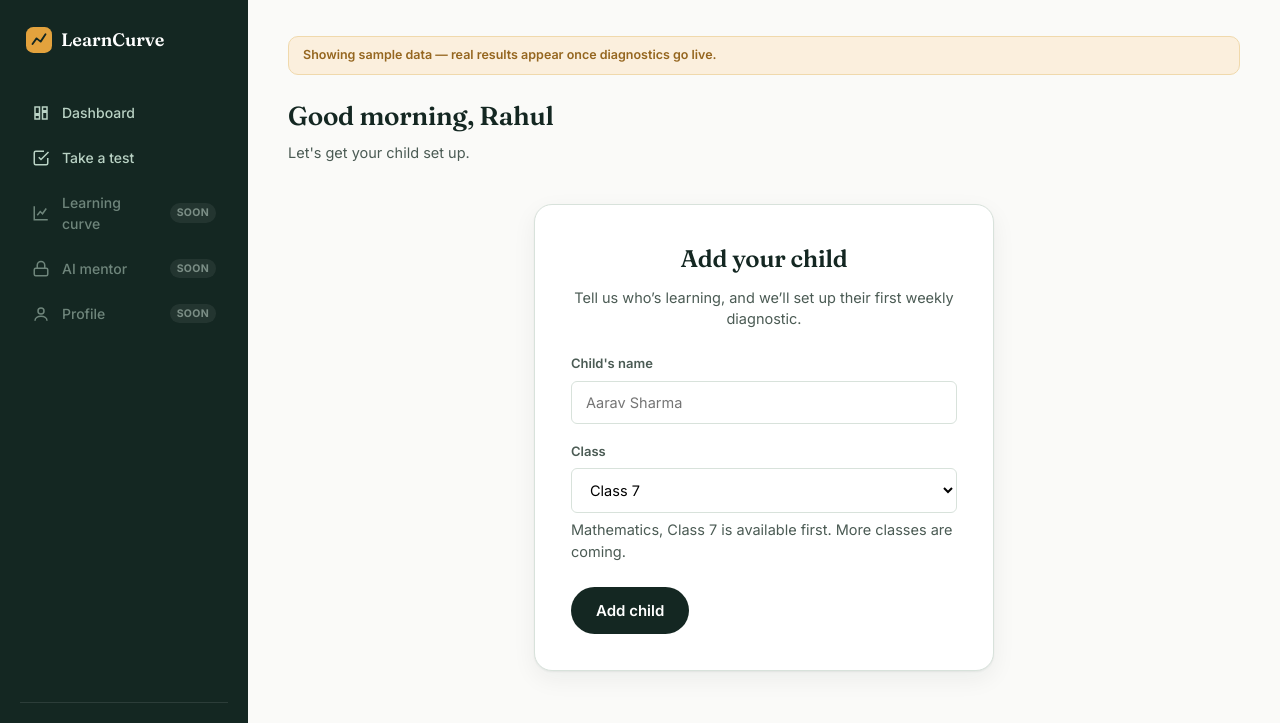
Test: Dashboard › asks a parent with no children to add one, then shows the no-tests state
This screenshot has width=1280, height=723.
Expected: the heading "Add your child" is shown, left=680, top=244, right=848, bottom=272
Click the button "Add child": x=630, y=610 left=571, top=586, right=689, bottom=634
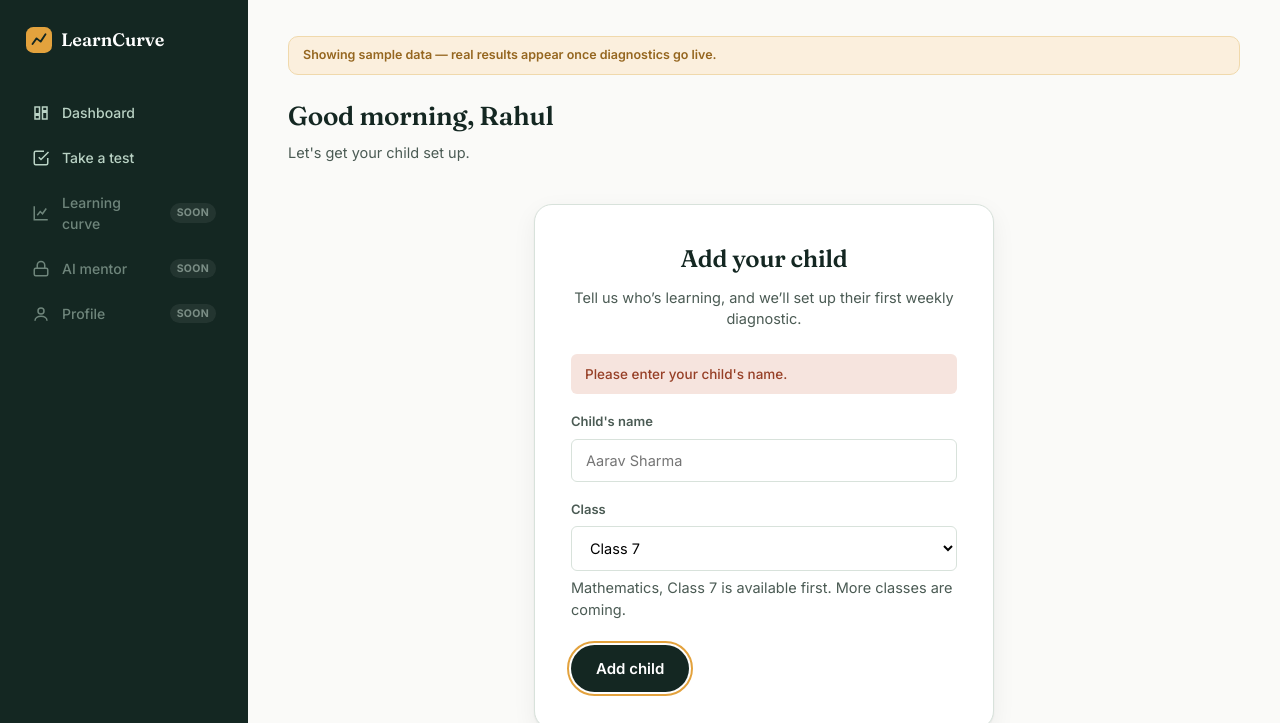
Result: the message shows "enter your child" at left=585, top=366, right=787, bottom=382
In the field labelled "Child's name": x=764, y=460 left=571, top=439, right=957, bottom=482, type "Kabir Verma"
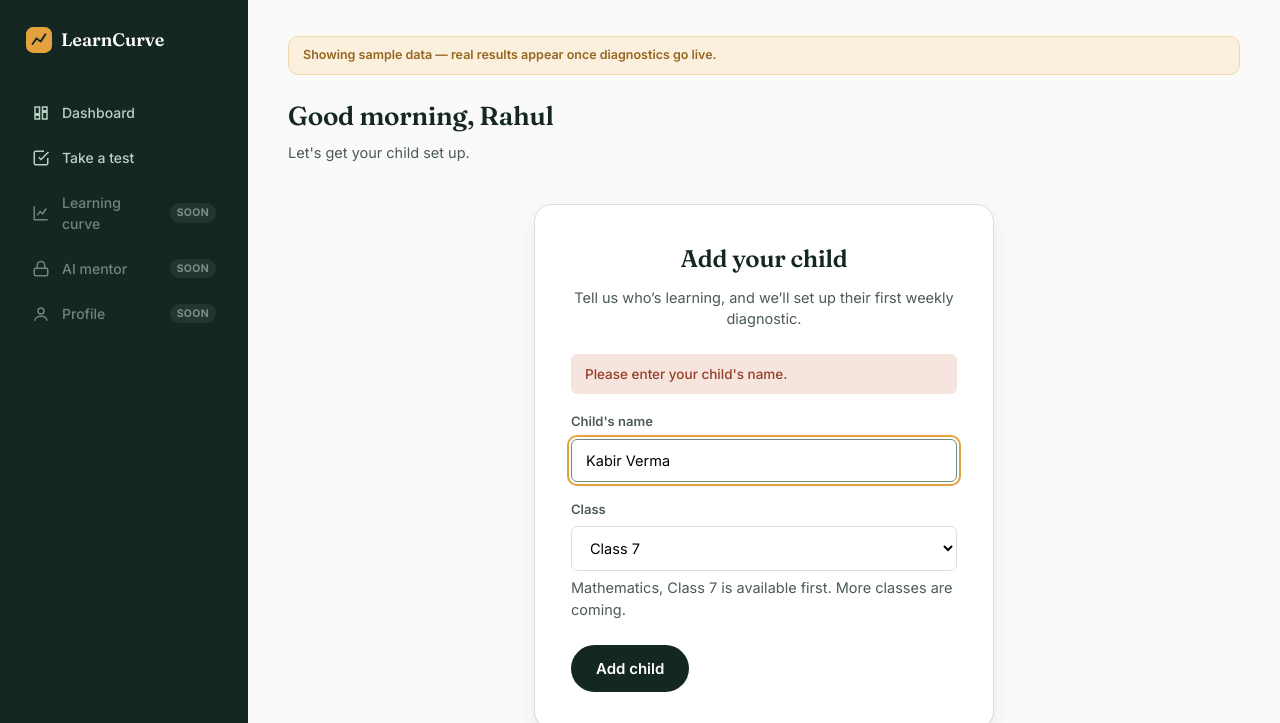
Click the button "Add child": x=630, y=668 left=571, top=645, right=689, bottom=692
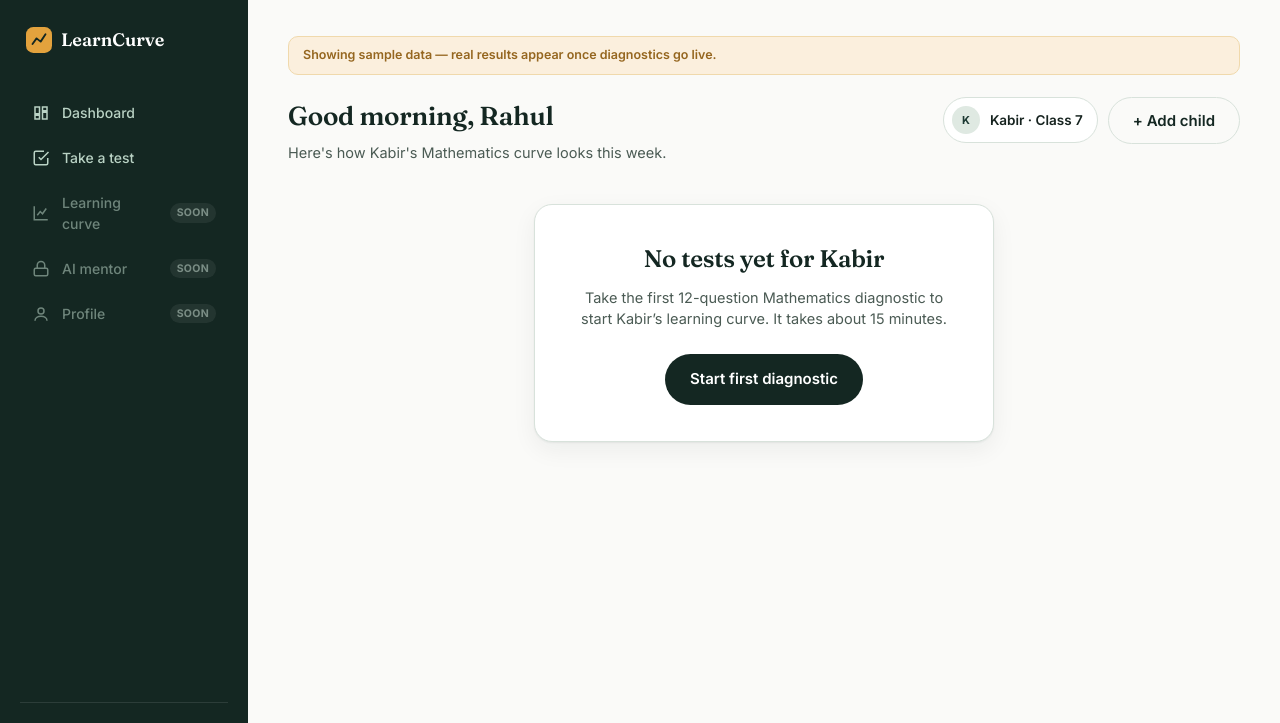
Result: the heading "No tests yet for Kabir" is shown at left=644, top=244, right=884, bottom=272
Result: the text "Kabir · Class 7" is shown at left=990, top=110, right=1083, bottom=130
